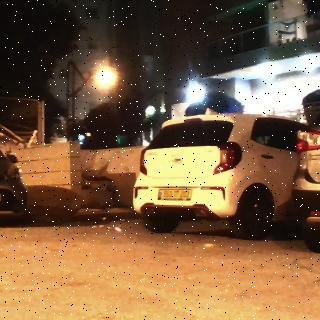LicensePlate: (162, 189, 191, 198)
